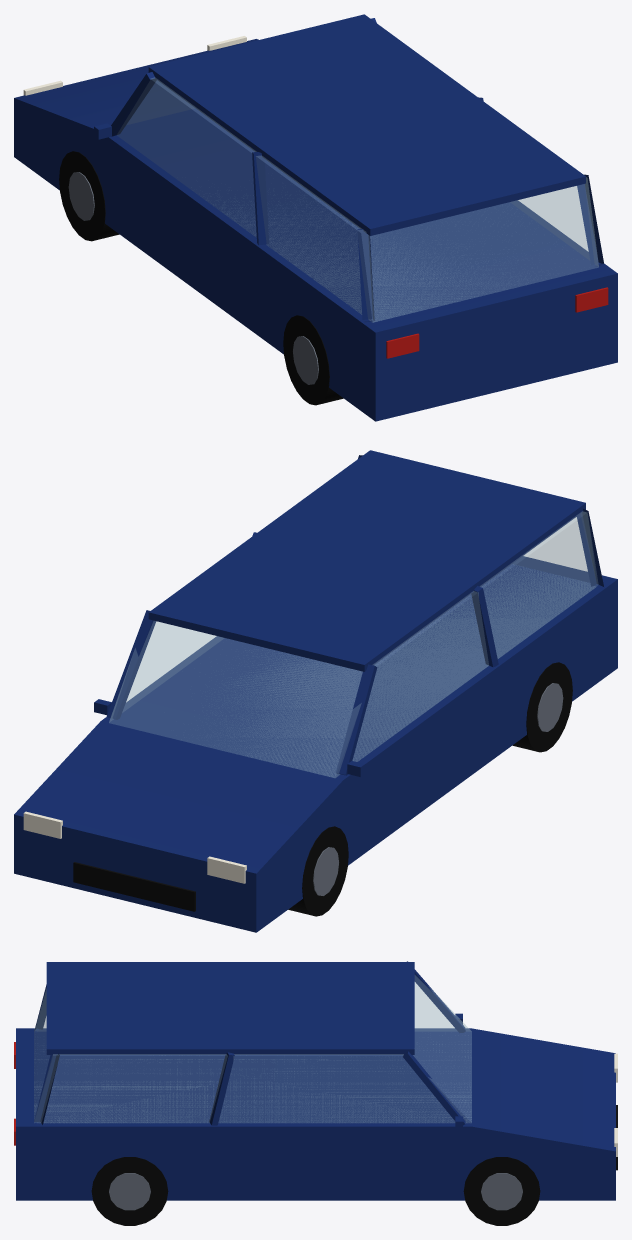
The model's file is vehicle.car.estate_blue.glb.
The picture shows the model from 3 angles, top to bottom: view 1: azimuth 30°, elevation 25°; view 2: azimuth 150°, elevation 25°; view 3: azimuth 270°, elevation 25°; orthographic projection. The views are drawn at different scales.
Visible parts, largest first — view 1: main__car_blue, main__glass, main__rubber, main__steel_painted, main__hazard_red, main__light_emitter; view 2: main__car_blue, main__glass, main__rubber, main__plastic_black, main__steel_painted, main__light_emitter; view 3: main__car_blue, main__glass, main__rubber, main__steel_painted.
Part boxes in pixels (box(x1,y1,x2,y2)): main__car_blue: box(14, 14, 617, 421); main__glass: box(117, 77, 598, 322); main__rubber: box(59, 151, 343, 405); main__steel_painted: box(68, 172, 318, 384); main__hazard_red: box(386, 287, 608, 358); main__light_emitter: box(23, 36, 246, 95); main__car_blue: box(14, 450, 617, 932); main__glass: box(109, 511, 598, 777); main__rubber: box(288, 662, 572, 916); main__plastic_black: box(73, 862, 195, 911); main__steel_painted: box(313, 683, 563, 895); main__light_emitter: box(23, 811, 246, 883); main__car_blue: box(16, 961, 615, 1200); main__glass: box(34, 975, 471, 1122); main__rubber: box(91, 1157, 540, 1225); main__steel_painted: box(109, 1173, 522, 1210).
Bounding box in the file's own units: 2 × 1.48 × 4.73.
